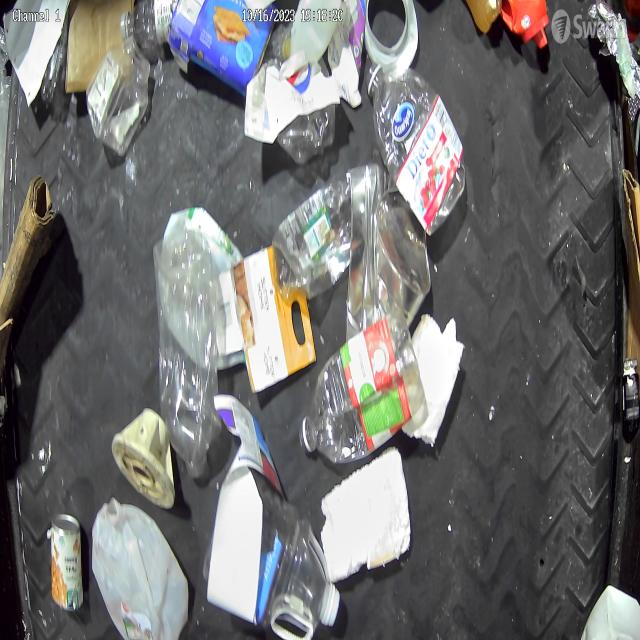can: (347, 162, 432, 337), (50, 512, 84, 612)
milk_jug: (92, 495, 191, 640)
plastic_bottle: (201, 471, 342, 640), (298, 306, 425, 469), (364, 58, 469, 240), (153, 226, 222, 478), (272, 176, 351, 302), (120, 0, 174, 56)
